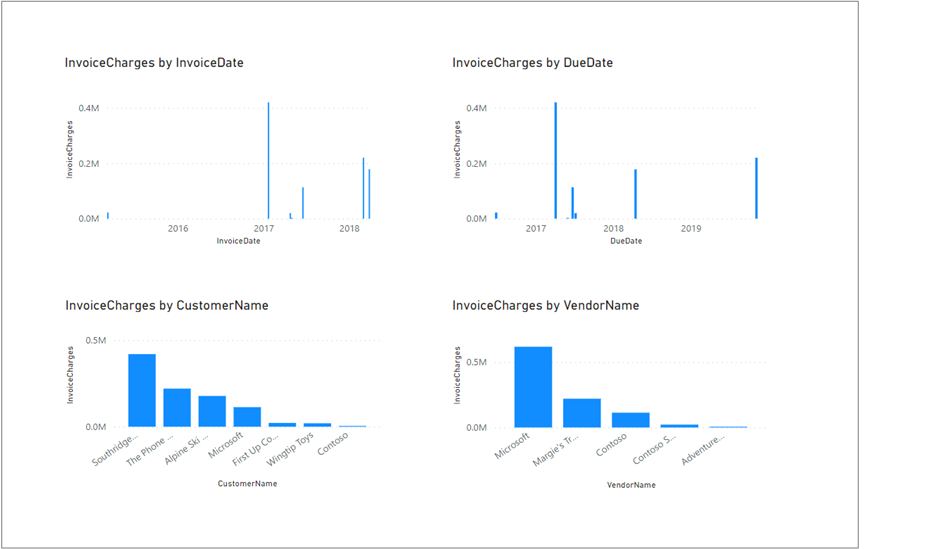

This screenshot's page, from the dashboard's own definition file:
{"tool":"powerbi","page":{"name":"ChargesByCategory","canvas":[1280,720],"ordinal":1},"visuals":[{"type":"columnChart","fields":{"Category":["fieldlistcustom.Invoice Date"],"Y":["Sum(fieldlistcustom.Invoice Charges)"]},"box":[70.7,67.1,411.4,247.8],"z":0},{"type":"columnChart","fields":{"Category":["fieldlistcustom.Due Date"],"Y":["Sum(fieldlistcustom.Invoice Charges)"]},"box":[563.5,67.1,410.5,247.8],"z":1000},{"type":"columnChart","fields":{"Category":["fieldlistcustom.Customer Name"],"Y":["Sum(fieldlistcustom.Invoice Charges)"]},"box":[71.6,375.7,410.5,247.8],"z":2000},{"type":"columnChart","fields":{"Category":["fieldlistcustom.Vendor Name"],"Y":["Sum(fieldlistcustom.Invoice Charges)"]},"box":[563.5,375.7,410.5,248.6],"z":3000}]}

Visuals, with their boxes in screenshot pixels (x1, y1, x2, y2), scaled from the page's 1280x720 canvas onto the 949x549 screenshot:
columnChart - fieldlistcustom.Invoice Date x Sum(fieldlistcustom.Invoice Charges): bbox(52, 51, 357, 240)
columnChart - fieldlistcustom.Due Date x Sum(fieldlistcustom.Invoice Charges): bbox(418, 51, 722, 240)
columnChart - fieldlistcustom.Customer Name x Sum(fieldlistcustom.Invoice Charges): bbox(53, 286, 357, 475)
columnChart - fieldlistcustom.Vendor Name x Sum(fieldlistcustom.Invoice Charges): bbox(418, 286, 722, 476)
